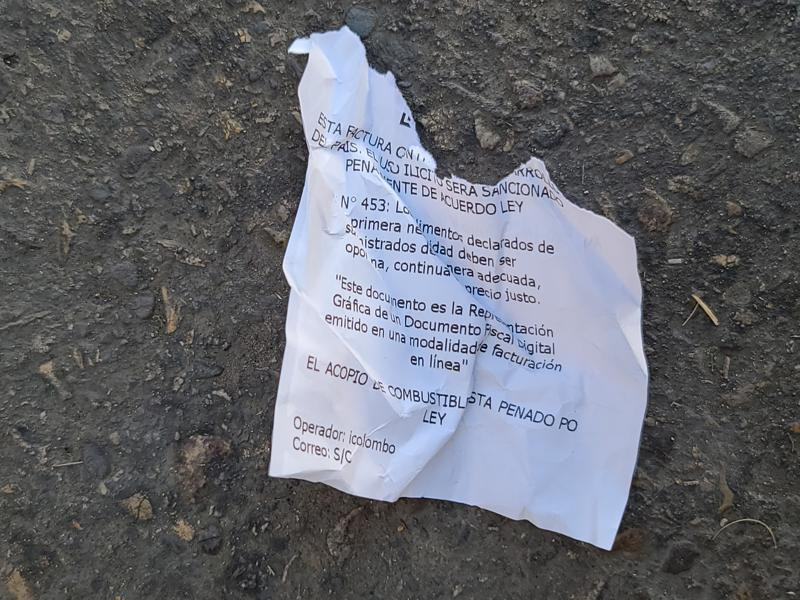papel: (268, 26, 650, 553)
